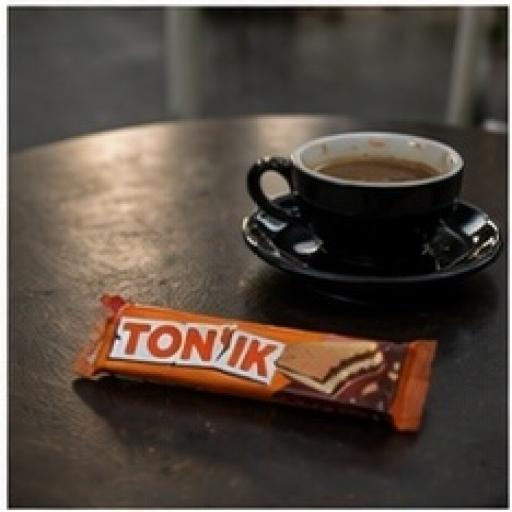tonik: (83, 242, 464, 459)
